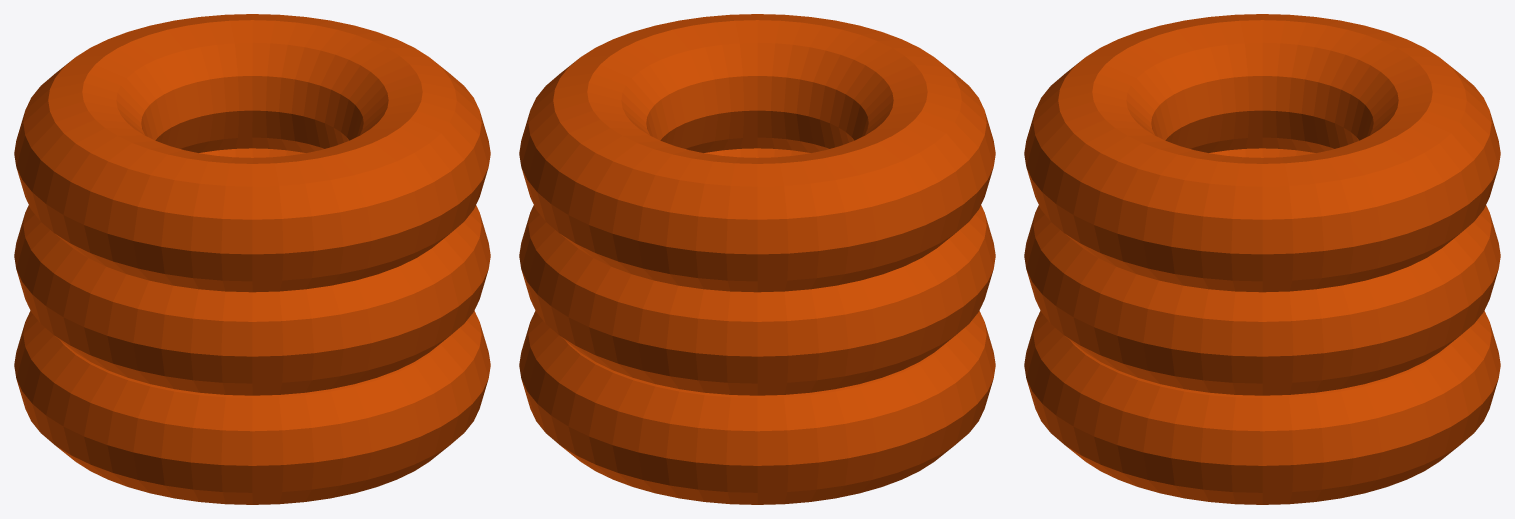
The model's file is Egonens-Tamperse(o).obj.
3 renders of one model, left to right at view 1: azimuth 30°, elevation 25°; view 2: azimuth 150°, elevation 25°; view 3: azimuth 270°, elevation 25°, orthographic.
Visible parts, largest first — view 1: Torus.001; view 2: Torus.001; view 3: Torus.001.
Part boxes in pixels (<box>): Torus.001: <box>14,14,490,504</box>; Torus.001: <box>519,14,995,504</box>; Torus.001: <box>1024,14,1500,504</box>.
Bounding box in the file's own units: 0.8733 × 0.677 × 0.8733.
